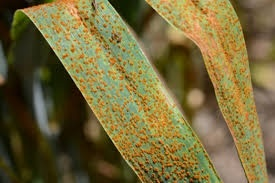Leaf Rust: (64, 26, 197, 174)
